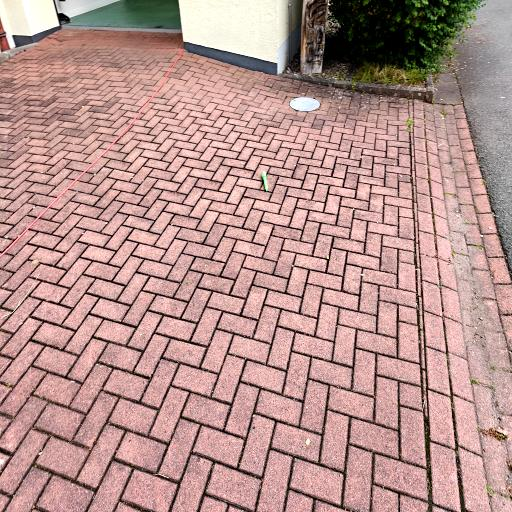Probe-Detection: (262, 171, 268, 191)
